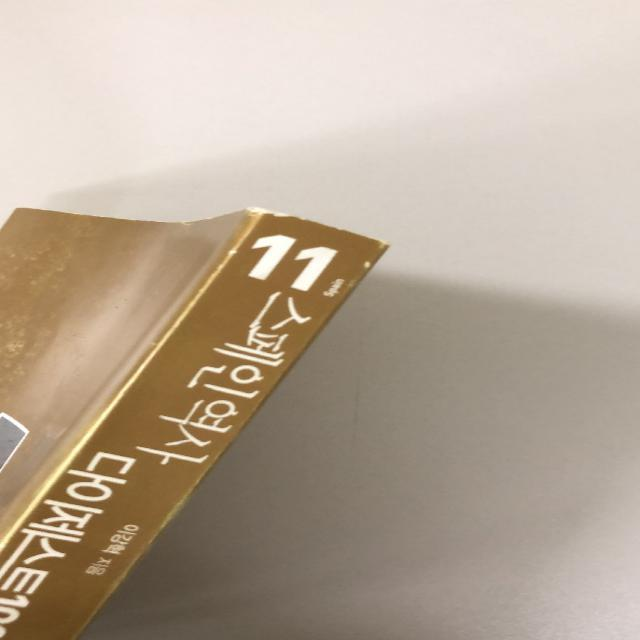Wornout: (149, 472, 205, 544), (106, 552, 145, 593), (236, 206, 308, 221), (363, 236, 398, 251), (219, 246, 254, 261), (360, 257, 376, 273)
